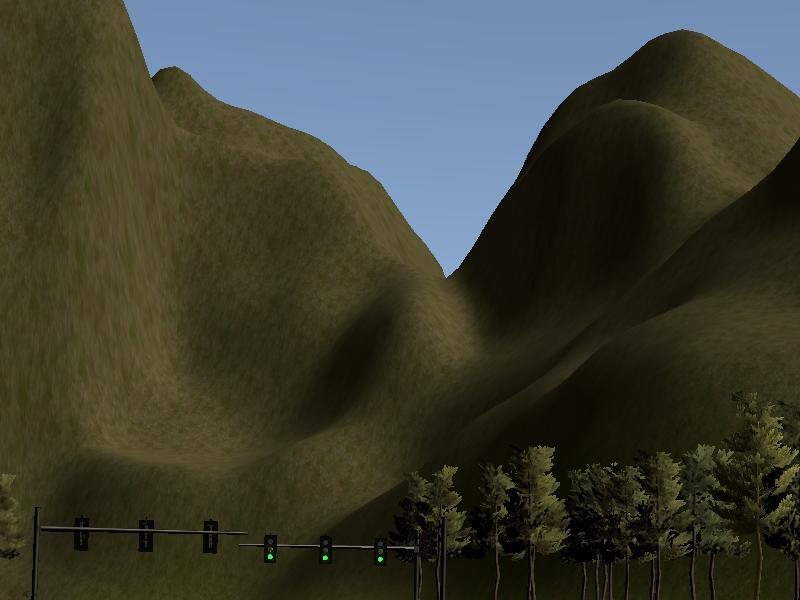Green: (318, 534, 333, 565), (373, 537, 388, 566), (264, 533, 278, 563)
